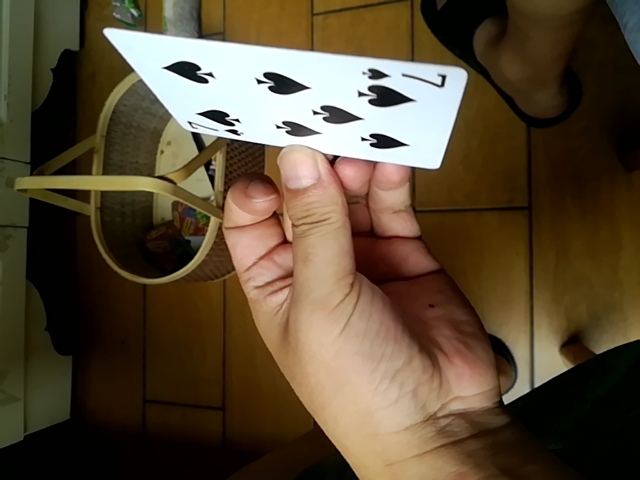ht 7: (103, 31, 471, 167)
